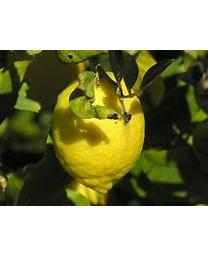lemon: (49, 71, 142, 193)
